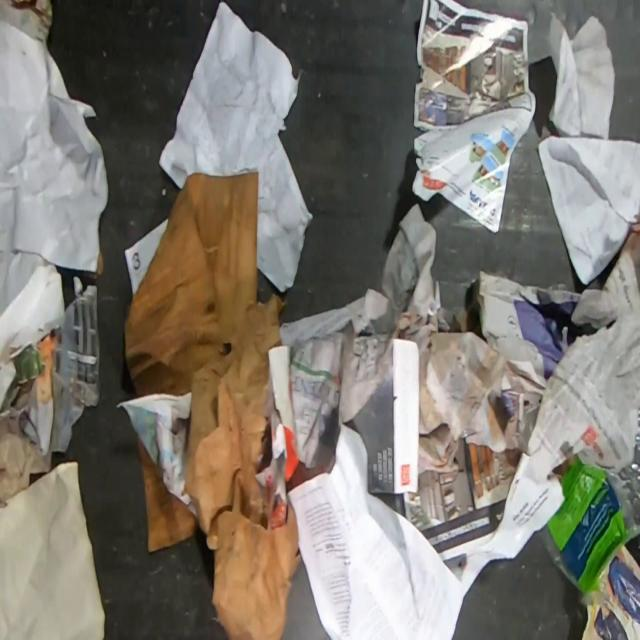cardboard: (344, 335, 419, 494)
rigid_plastic: (606, 404, 640, 544)
soft_plastic: (540, 458, 626, 602)
